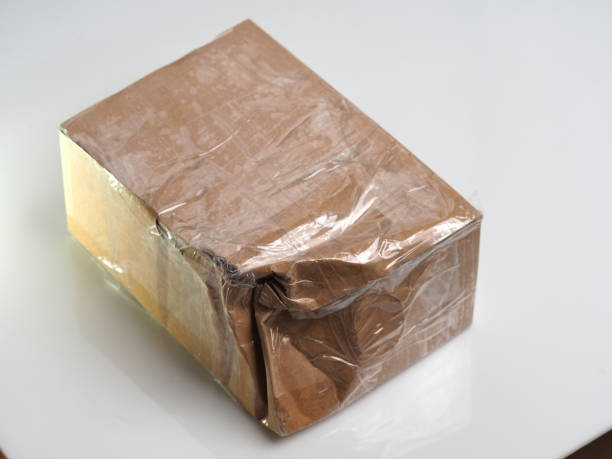damaged package: (141, 210, 434, 439)
